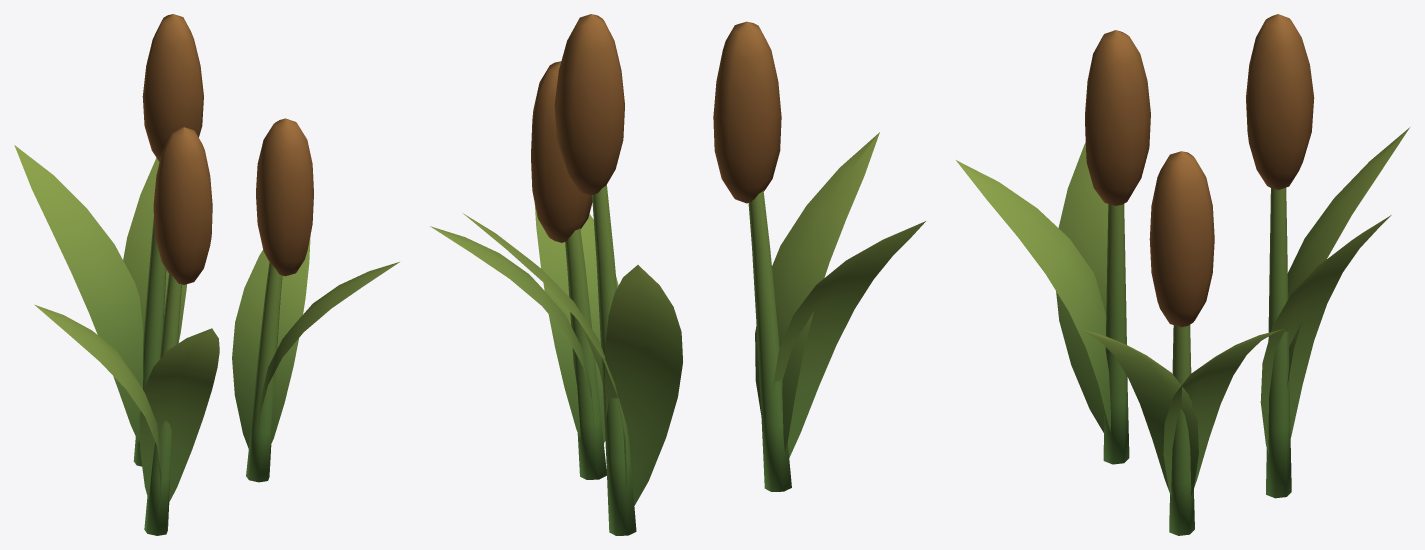
The model's file is reed_cluster.glb.
The picture shows the model from 3 angles, left to right: view 1: azimuth 30°, elevation 25°; view 2: azimuth 150°, elevation 25°; view 3: azimuth 270°, elevation 25°; orthographic projection. The views are drawn at different scales.
Visible parts, largest first — view 1: Grass; view 2: Grass; view 3: Grass.
Part boxes in pixels (x1,y1,x2,y2): Grass: [14, 14, 399, 535]; Grass: [430, 14, 925, 535]; Grass: [956, 14, 1409, 535].
Bounding box in the file's own units: 0.7016 × 0.8417 × 0.7032.
